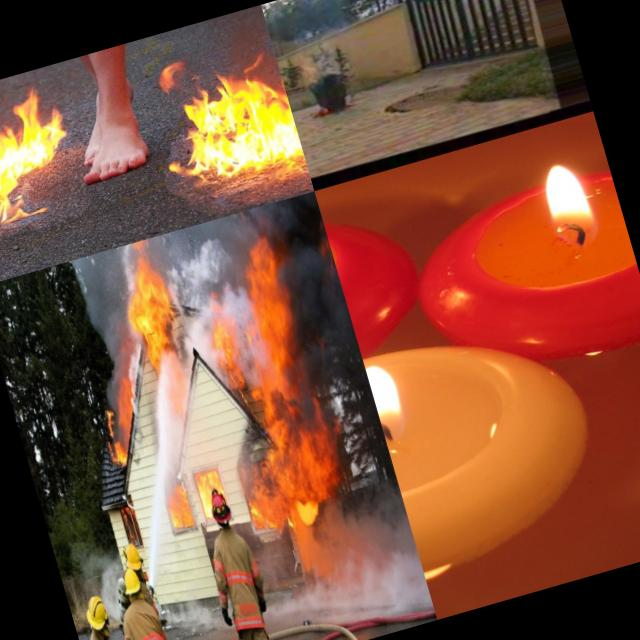fire: (224, 242, 347, 520), (144, 34, 306, 196), (0, 73, 98, 246), (526, 136, 616, 245), (111, 238, 184, 369), (84, 371, 150, 468), (237, 459, 304, 544), (360, 342, 420, 429), (206, 302, 250, 393), (247, 381, 283, 463), (163, 488, 200, 534), (292, 56, 332, 94), (194, 472, 217, 518), (205, 467, 224, 494)
smoke: (262, 190, 374, 412), (261, 532, 433, 640), (150, 228, 226, 382), (68, 249, 142, 378), (308, 490, 412, 558), (217, 276, 274, 386), (185, 220, 238, 308), (88, 542, 135, 620), (214, 206, 271, 256), (67, 536, 99, 598)
